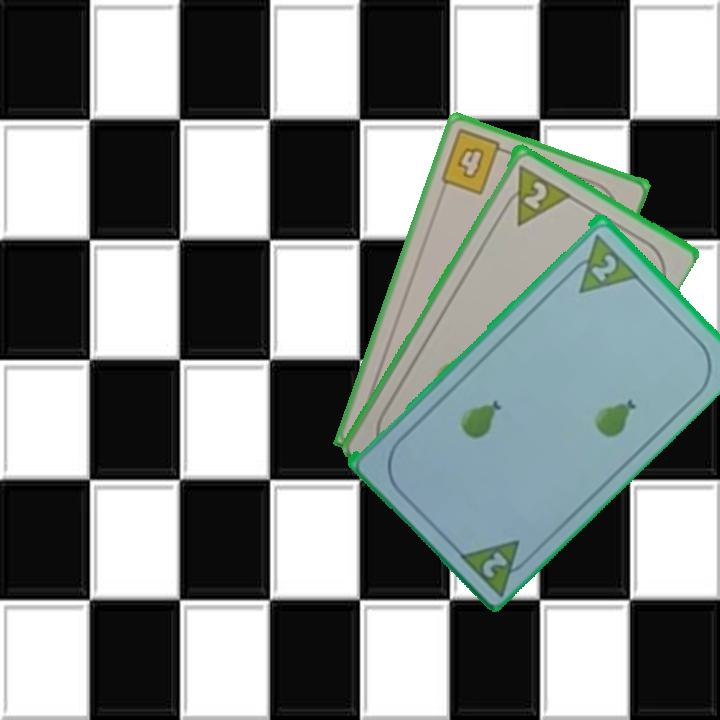2p: (453, 534, 537, 598), (496, 160, 572, 228), (587, 250, 620, 284)
4b: (436, 125, 513, 198)
